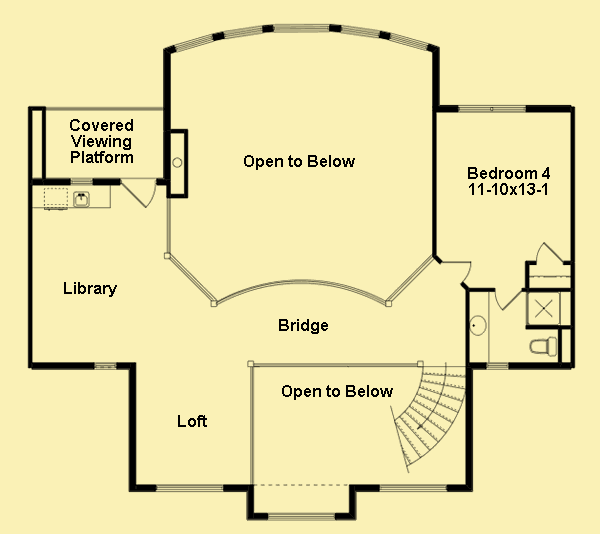door: (121, 179, 155, 210), (490, 285, 528, 312), (440, 257, 476, 285), (534, 237, 564, 266)
large_sink: (524, 331, 560, 359)
sink: (69, 187, 94, 209)
small_sink: (468, 292, 493, 363)
stairs: (392, 365, 467, 469)
window: (171, 22, 429, 58), (373, 481, 449, 495), (262, 510, 336, 523), (456, 104, 529, 117), (153, 482, 226, 493), (89, 360, 120, 370)
